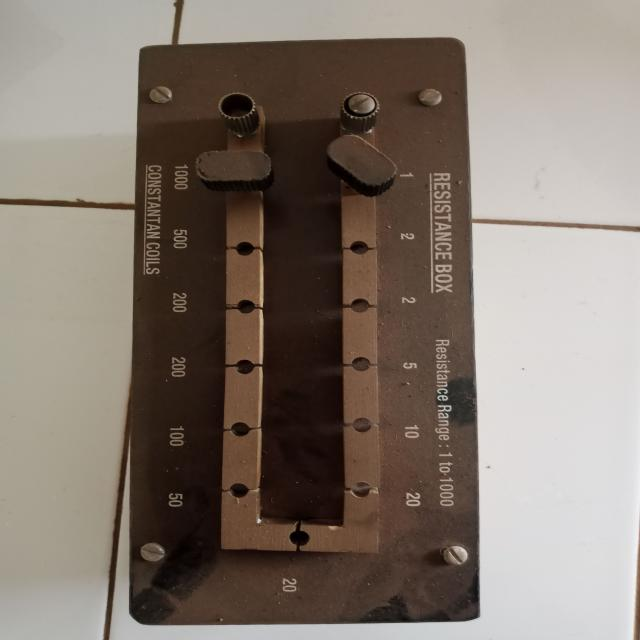Pinned Resistance Box: (105, 21, 502, 631)
